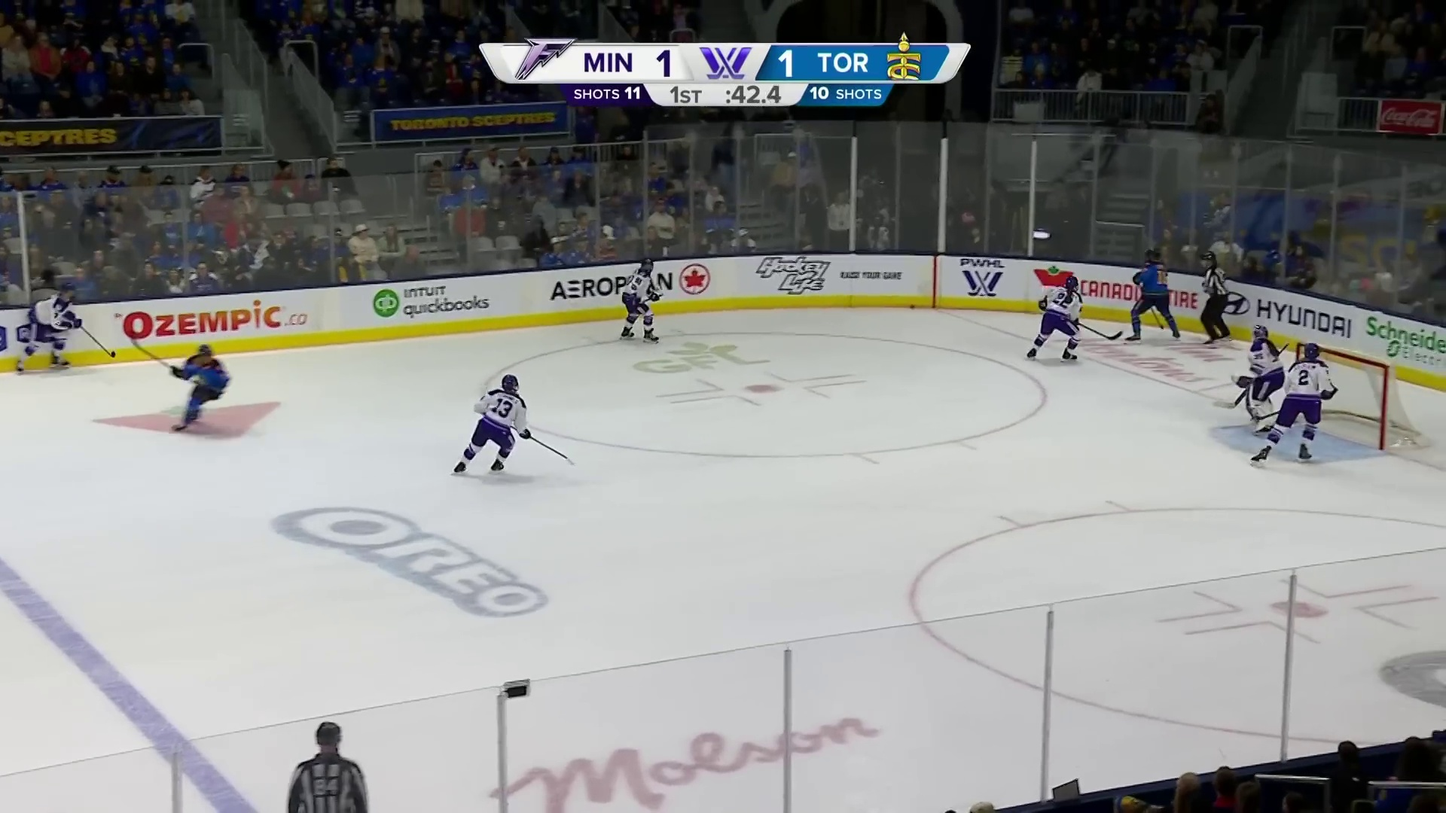goaltender: (1230, 324, 1285, 434)
player: (1250, 342, 1337, 468), (451, 375, 532, 475), (17, 283, 82, 370), (1124, 249, 1181, 343), (1024, 276, 1084, 363), (171, 343, 229, 432), (619, 255, 662, 344)
puck: (909, 304, 915, 310)
referee: (1200, 252, 1231, 348)
